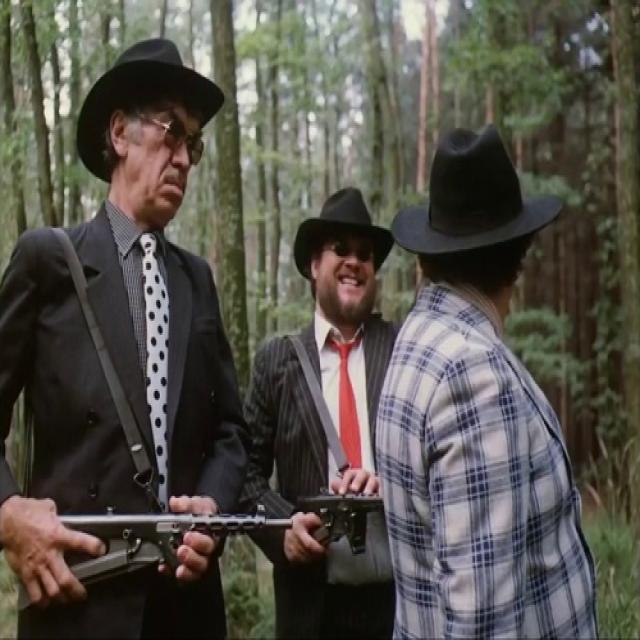rifle: (21, 507, 302, 613)
